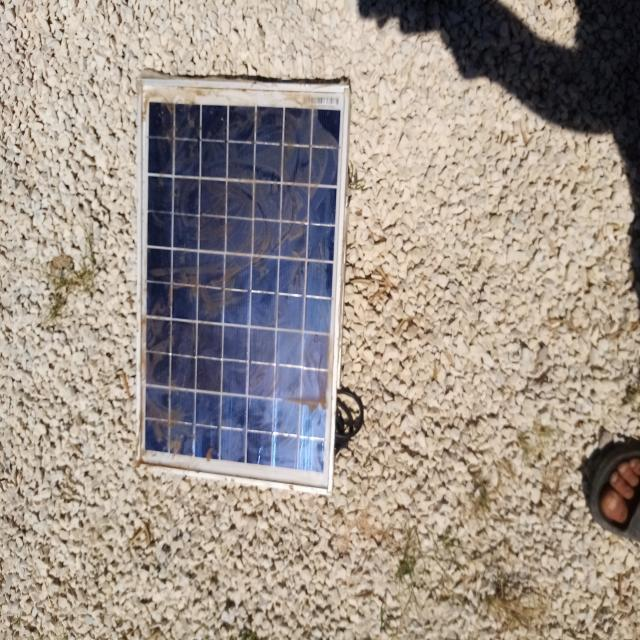faulty: (138, 81, 347, 492)
